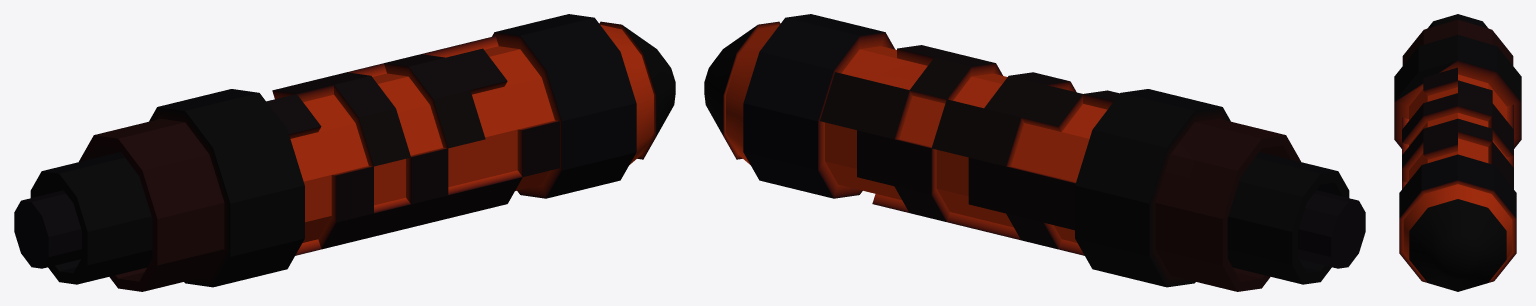
The model's file is Hunter_Skill_Rocket.fbx.
3 renders of one model, left to right at view 1: azimuth 30°, elevation 25°; view 2: azimuth 150°, elevation 25°; view 3: azimuth 270°, elevation 25°, orthographic. The views are drawn at different scales.
Parts seen in each view (by area): view 1: pCylinder1; view 2: pCylinder1; view 3: pCylinder1.
Part boxes in pixels (left/top/right/bottom): pCylinder1: left=14, top=14, right=675, bottom=291; pCylinder1: left=704, top=14, right=1365, bottom=291; pCylinder1: left=1394, top=14, right=1521, bottom=291.
Size of the model in its own units: 10.01 by 2.6 by 2.48.
